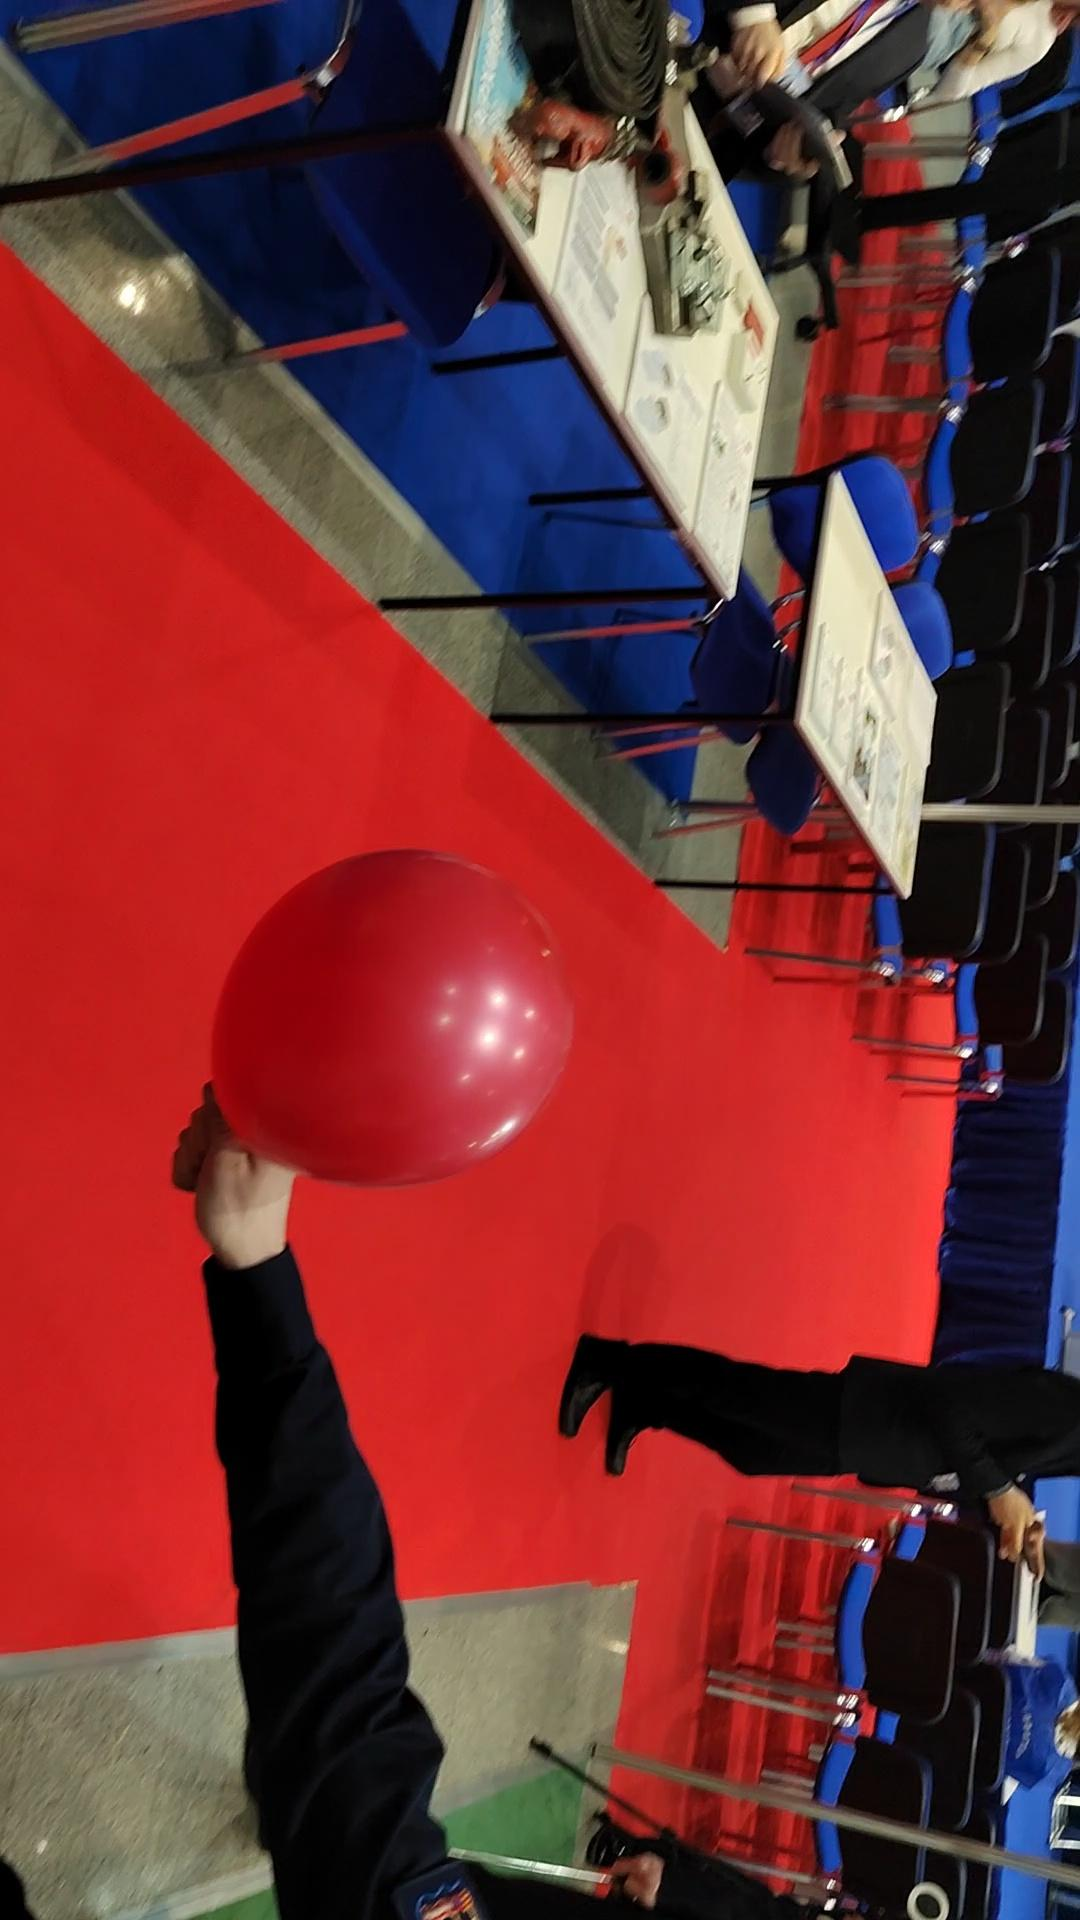red: (203, 837, 571, 1195)
